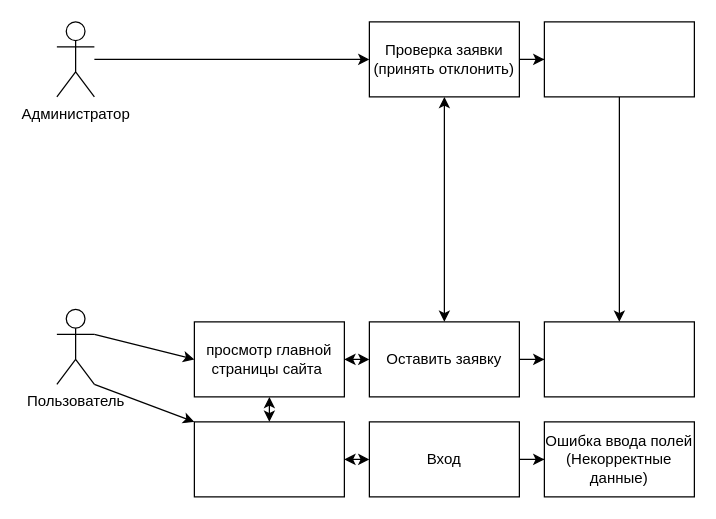
This 716x519 diagram has some shape labels left out. Here are the shapes that lost their labels. From the top down, the box of each, then its label:
(543, 21, 694, 97): изменить статус заявки
(543, 321, 694, 397): Просмотр статуса заявки(-вок)
(193, 421, 344, 497): Регистрация
